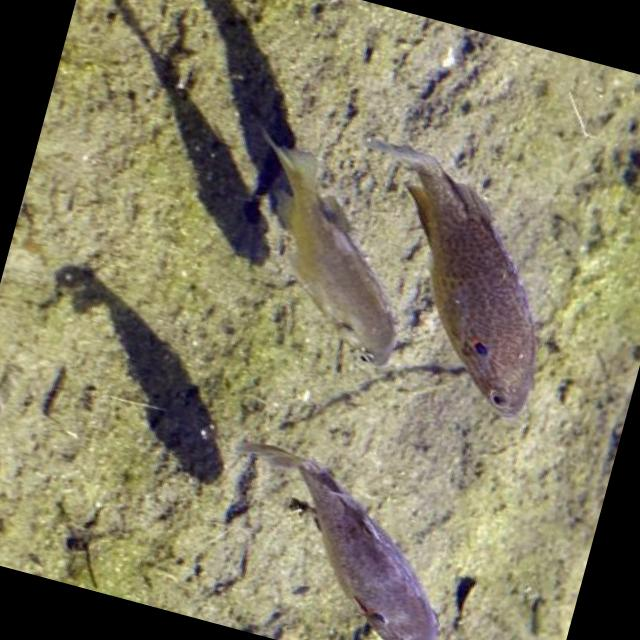Gunes Levregi: (185, 424, 479, 640)
